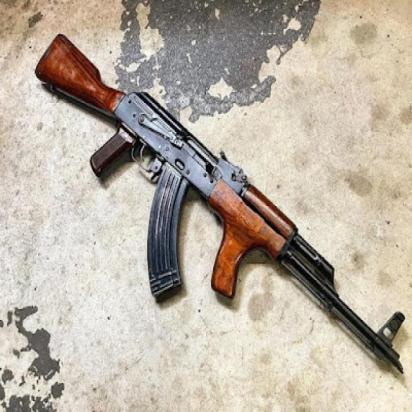Gun: (27, 22, 408, 394)
